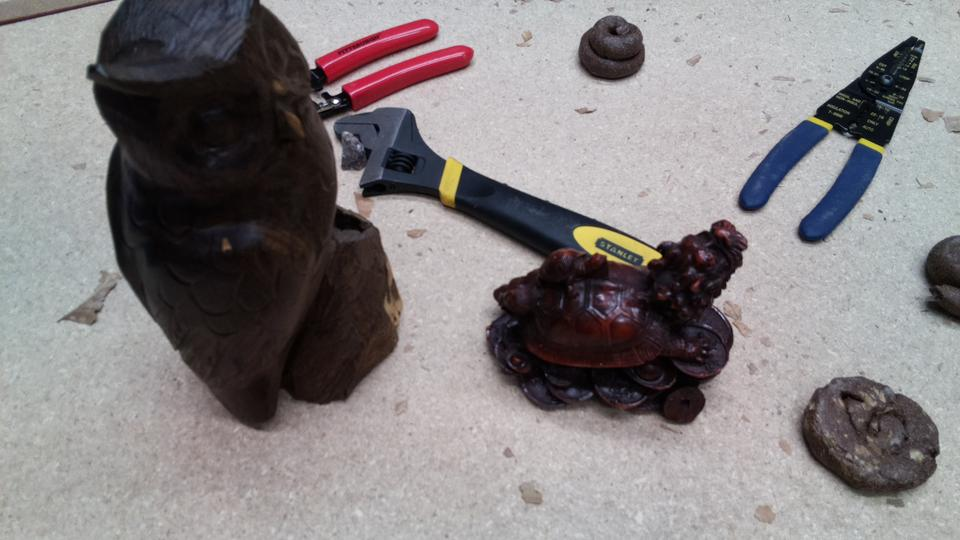poop: (799, 374, 942, 499), (575, 12, 650, 83), (921, 230, 960, 329)
